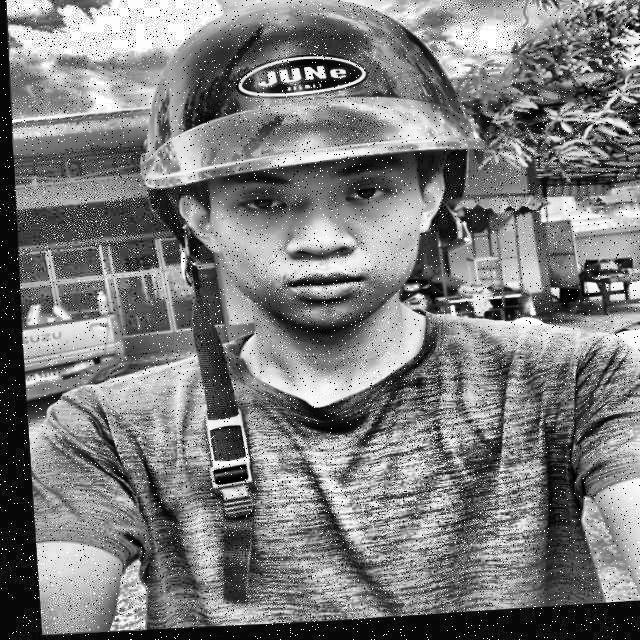Helmet: (110, 0, 512, 381)
